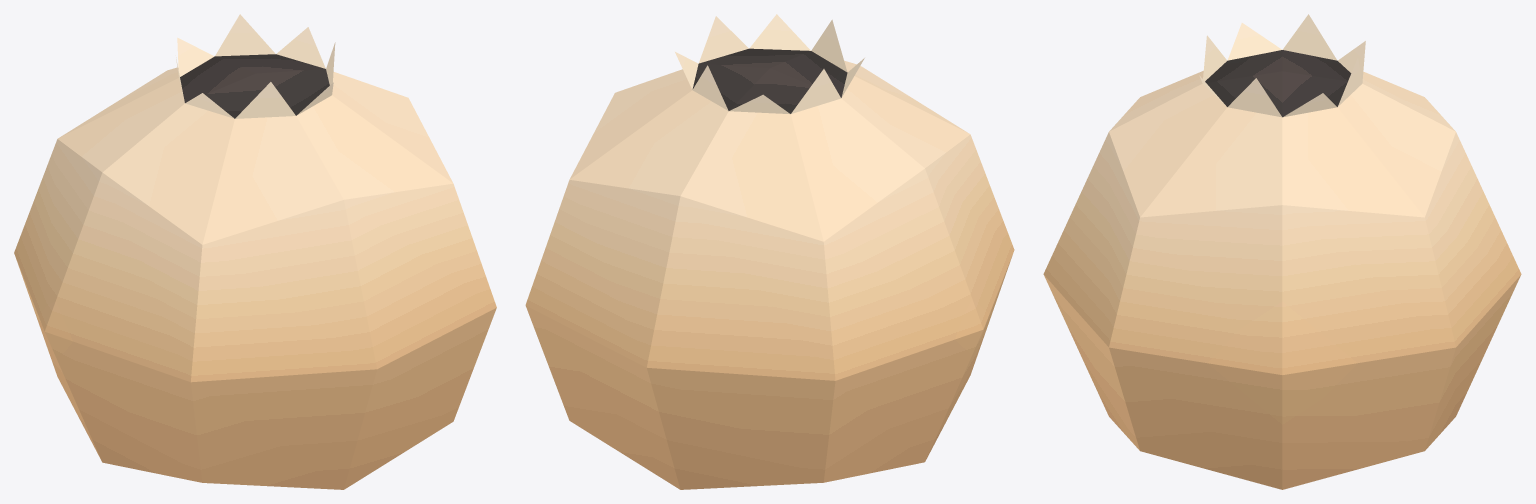
Rendered from Puffball_PartialOpened.glb.
The picture shows the model from 3 angles, left to right: view 1: azimuth 30°, elevation 25°; view 2: azimuth 150°, elevation 25°; view 3: azimuth 270°, elevation 25°; orthographic projection. The views are drawn at different scales.
Visible parts, largest first — view 1: Cube.001; view 2: Cube.001; view 3: Cube.001.
Part boxes in pixels (<box>): Cube.001: <box>14,14,496,489</box>; Cube.001: <box>525,14,1014,489</box>; Cube.001: <box>1043,14,1521,489</box>.
Size of the model in its own units: 2.77 by 2.71 by 2.77.
1 material, 1 textured.
